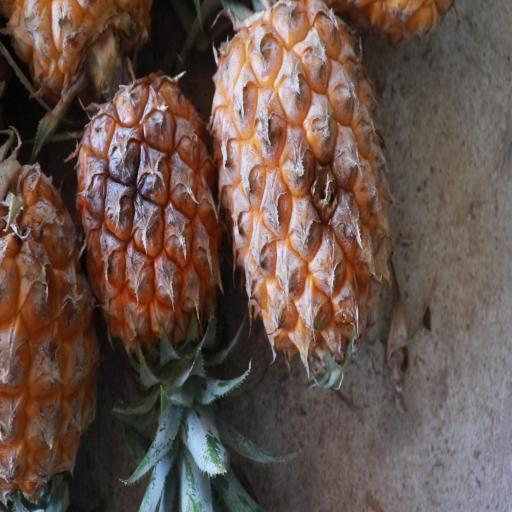Pineapple - v8 v1: (206, 4, 398, 380), (66, 62, 226, 367), (0, 154, 96, 506), (3, 492, 6, 497)
